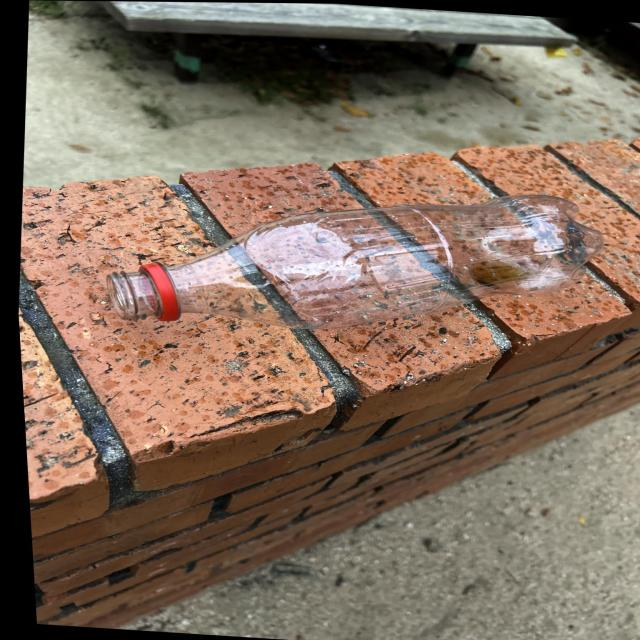empty: (108, 195, 603, 329)
